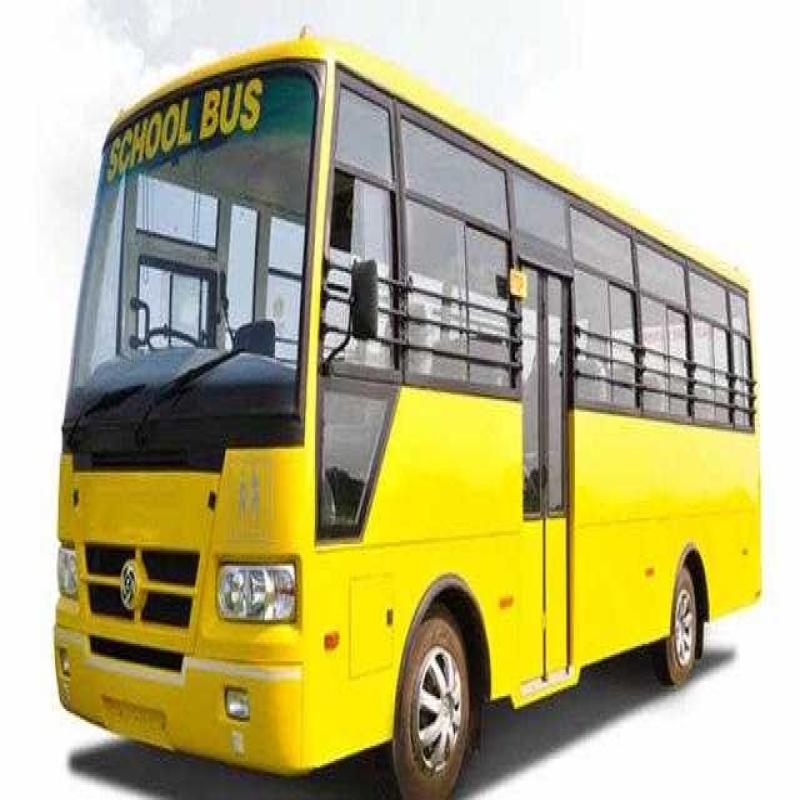bus: (61, 38, 794, 800)
